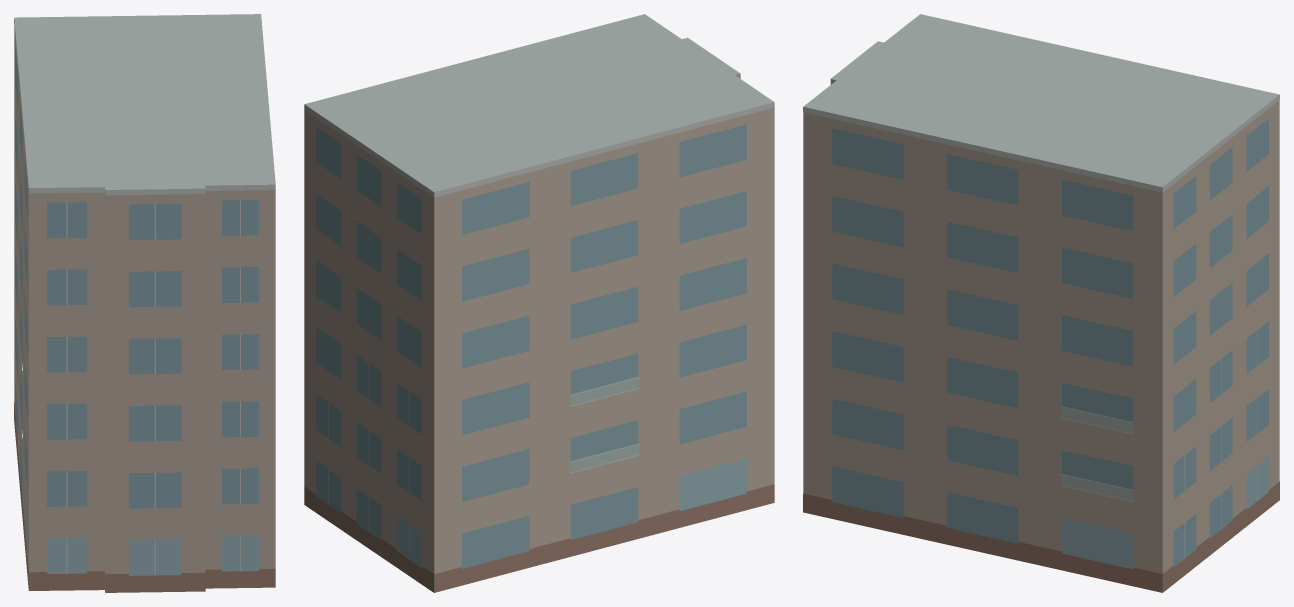
Rendered from survey-upis-32532353.glb.
3 views of the same model, side by side, from view 1: azimuth 30°, elevation 25°; view 2: azimuth 150°, elevation 25°; view 3: azimuth 270°, elevation 25° (orthographic).
Parts seen in each view (by area): view 1: survey-upis-32532353.tmp; view 2: survey-upis-32532353.tmp; view 3: survey-upis-32532353.tmp.
Boxes of the visible parts, x1=… form: survey-upis-32532353.tmp: x1=14, y1=14, x2=275, y2=592; survey-upis-32532353.tmp: x1=304, y1=14, x2=774, y2=592; survey-upis-32532353.tmp: x1=803, y1=14, x2=1279, y2=592.
Bounding box in the file's own units: 16.77 × 18.3 × 19.5.
